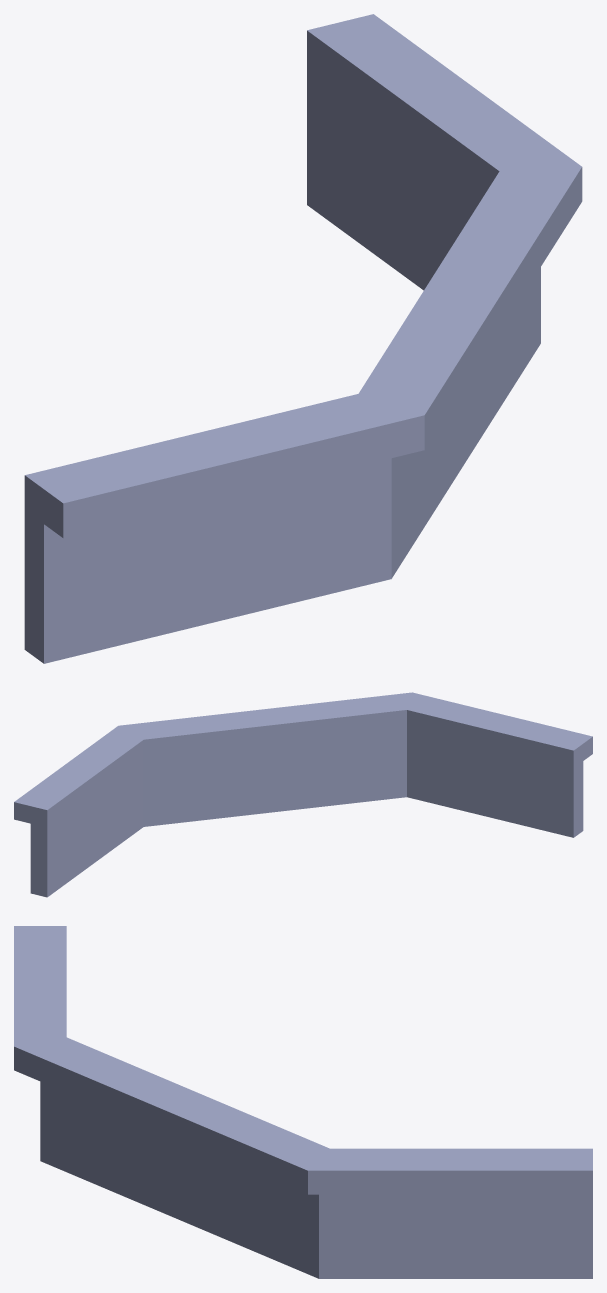
File: border-high-corner-diagonal.obj
The picture shows the model from 3 angles, top to bottom: view 1: azimuth 30°, elevation 25°; view 2: azimuth 150°, elevation 25°; view 3: azimuth 270°, elevation 25°; orthographic projection. The views are drawn at different scales.
Size of the model in its own units: 2.2 by 0.5 by 2.2.
